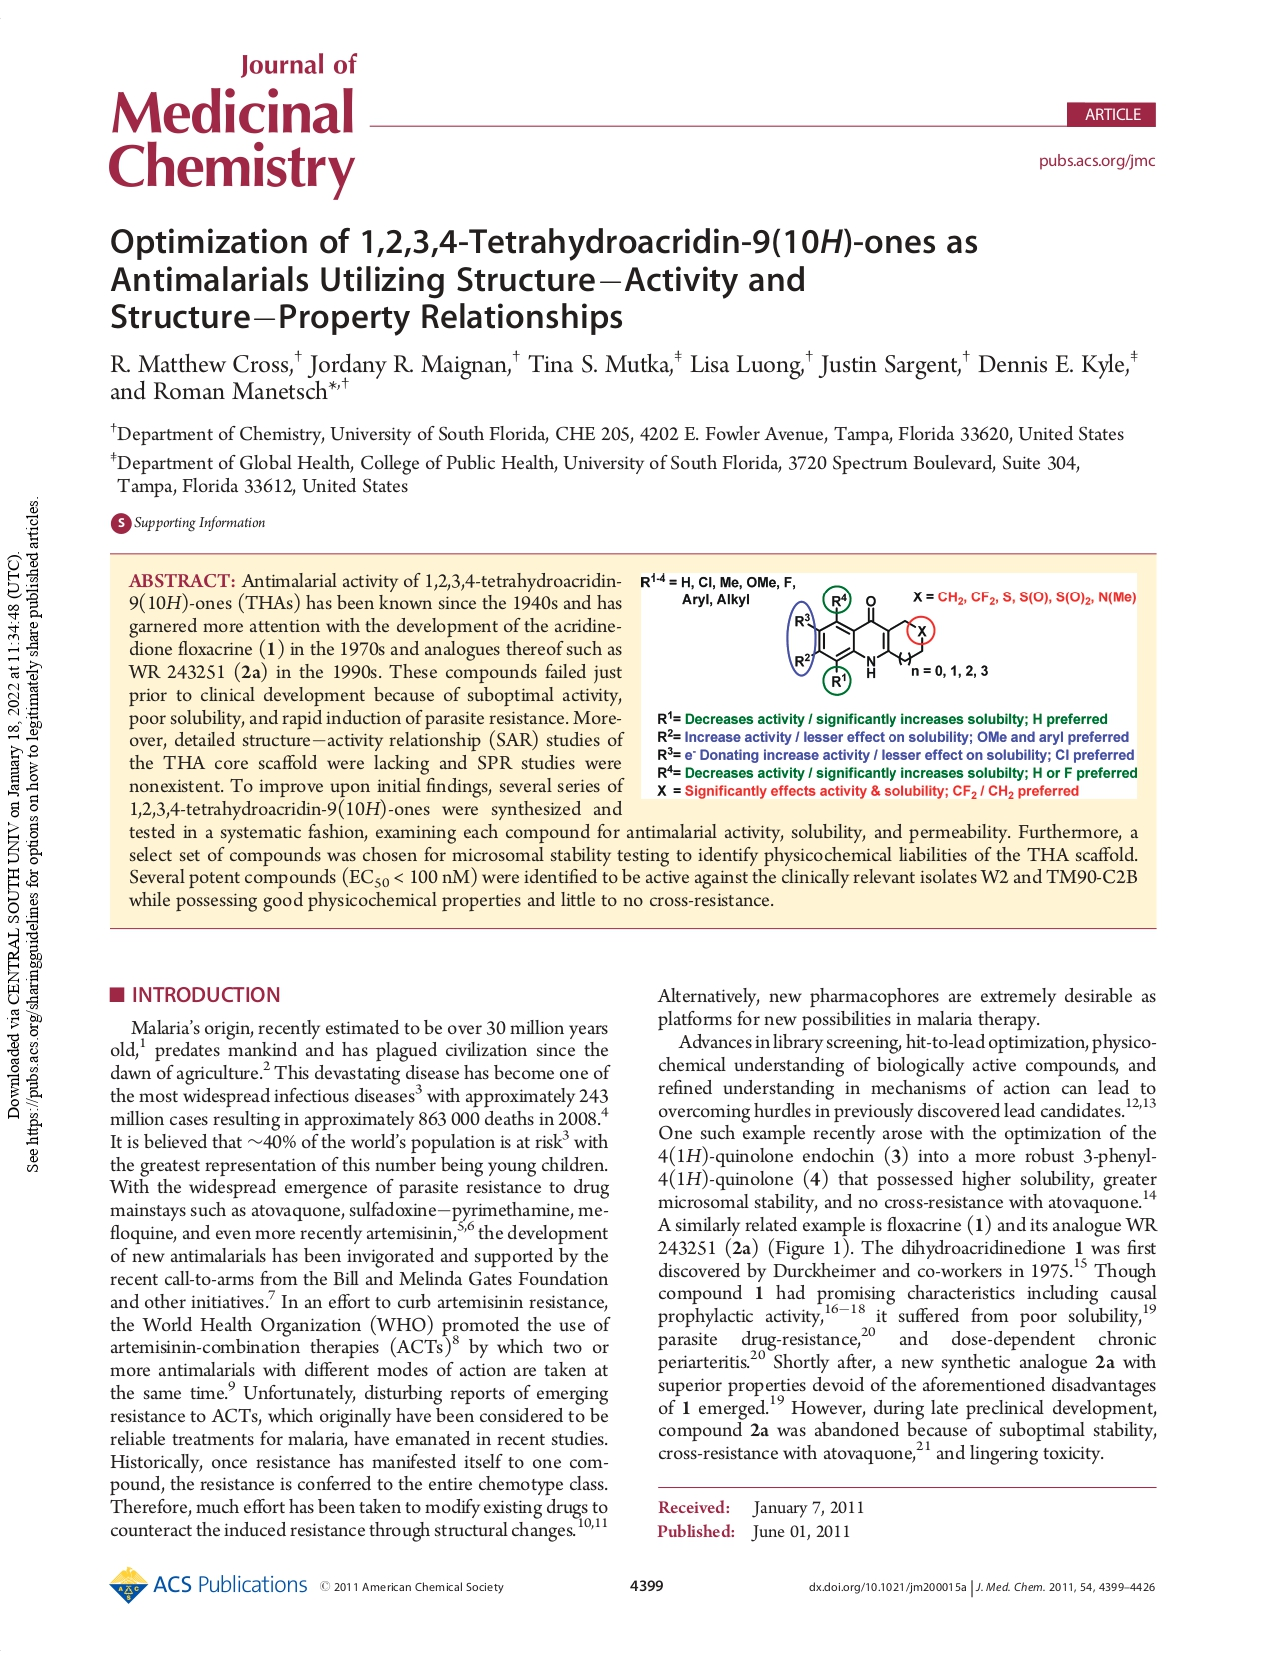exist_molecular: (793, 590, 931, 692)
